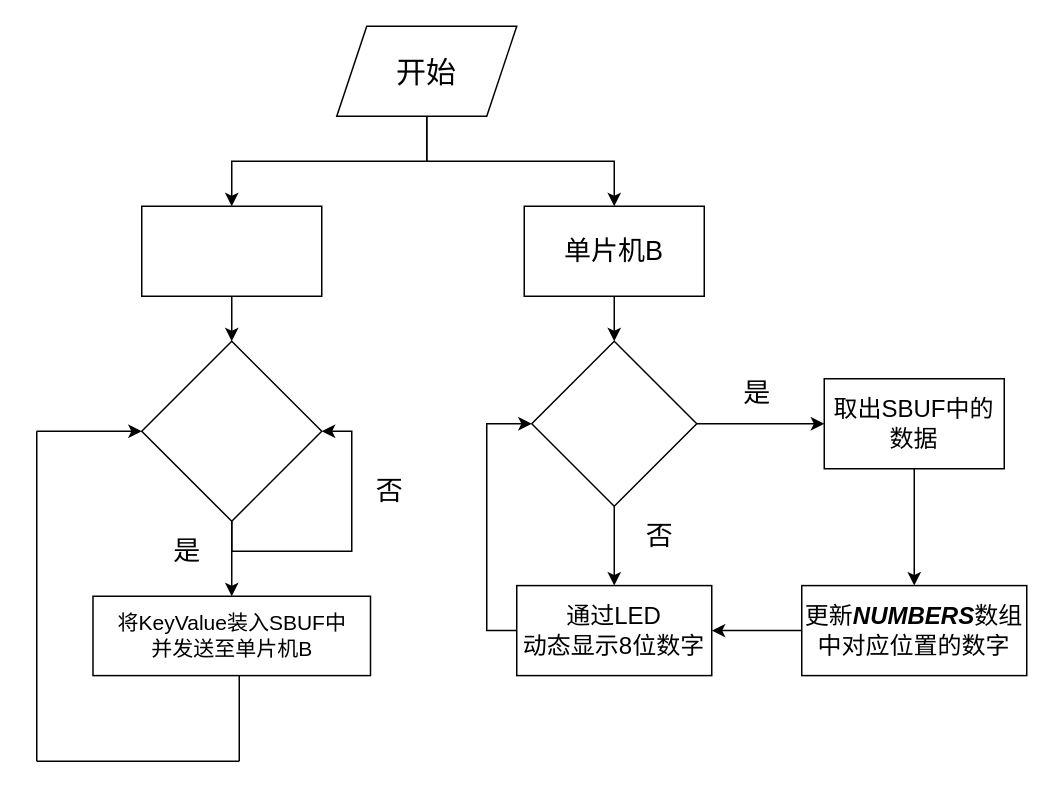
Image size: 1053x789. Some labels were removed from this diagram. Each missing label, with the box of its shape:
判断RI 是否为1: (530, 340, 697, 506)
单片机A: (140, 205, 322, 296)
检测 矩阵键盘 是否有按键 被按下: (140, 340, 322, 521)
